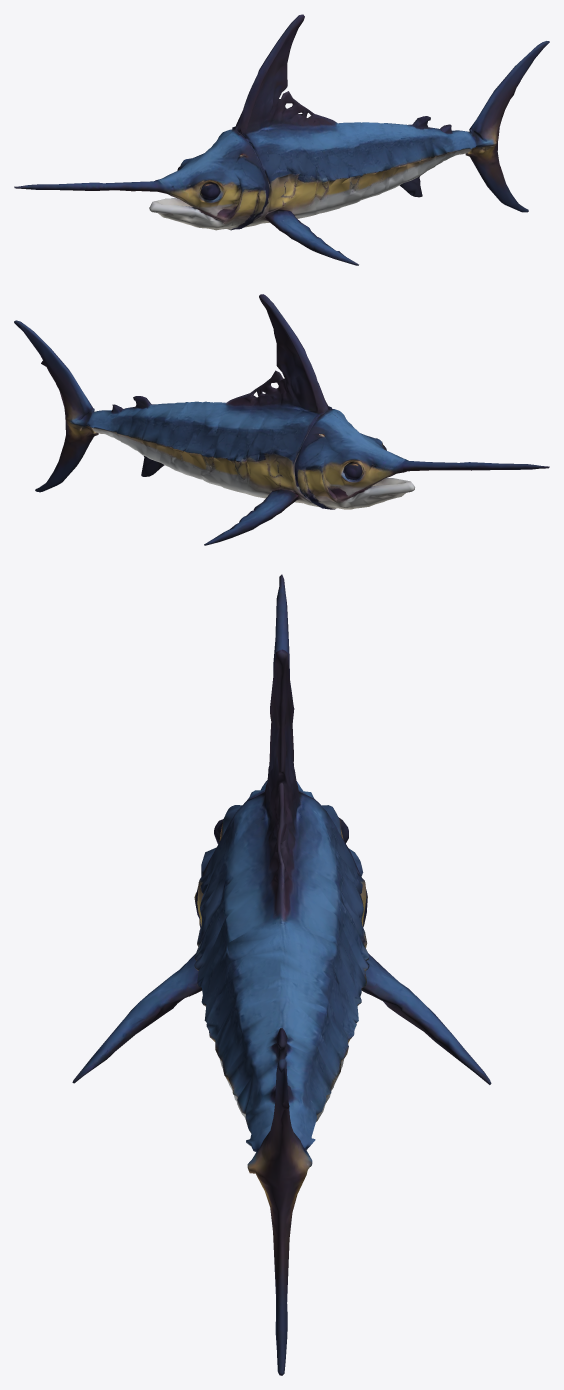
File: fish-mech.glb
The picture shows the model from 3 angles, top to bottom: view 1: azimuth 30°, elevation 25°; view 2: azimuth 150°, elevation 25°; view 3: azimuth 270°, elevation 25°; orthographic projection. The views are drawn at different scales.
Parts seen in each view (by area): view 1: tripo_node_c82f6c9d-14e9-45ce-a842-49fcf5f78990; view 2: tripo_node_c82f6c9d-14e9-45ce-a842-49fcf5f78990; view 3: tripo_node_c82f6c9d-14e9-45ce-a842-49fcf5f78990.
Part boxes in pixels (bbox=[...]): tripo_node_c82f6c9d-14e9-45ce-a842-49fcf5f78990: bbox=[14, 14, 549, 265]; tripo_node_c82f6c9d-14e9-45ce-a842-49fcf5f78990: bbox=[14, 294, 549, 545]; tripo_node_c82f6c9d-14e9-45ce-a842-49fcf5f78990: bbox=[72, 574, 491, 1375].
Size of the model in its own units: 1 by 0.4501 by 0.3388.
Materials: 1 (1 with a texture image).
